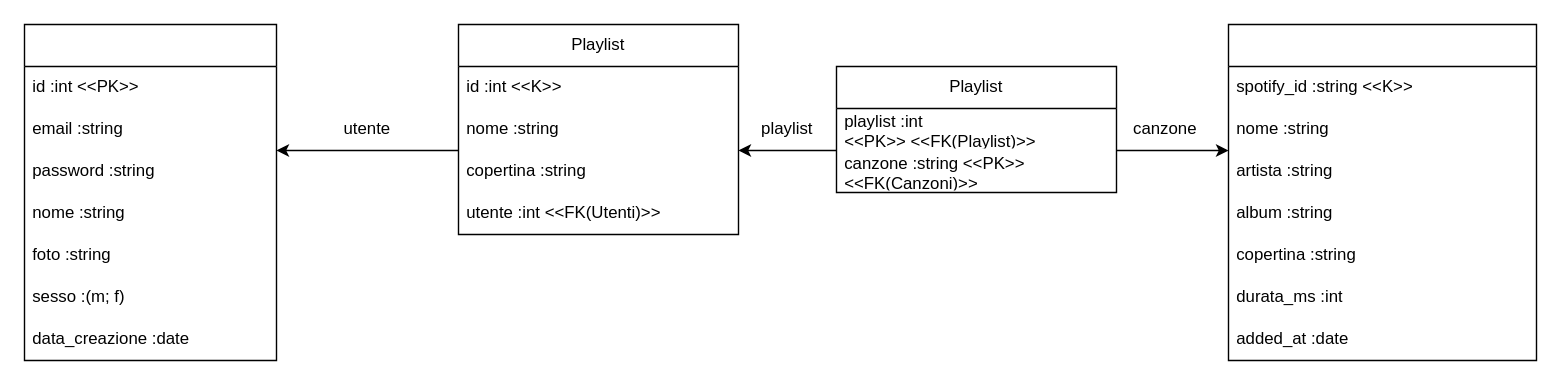
Some shapes in this 1561 by 385 pixel diagram are drawn without their labels. The box of each missing label's shape, as (x1, y1, x2, y2) in pixels:
Canzoni: (1227, 23, 1536, 360)
Utenti: (23, 23, 276, 360)
